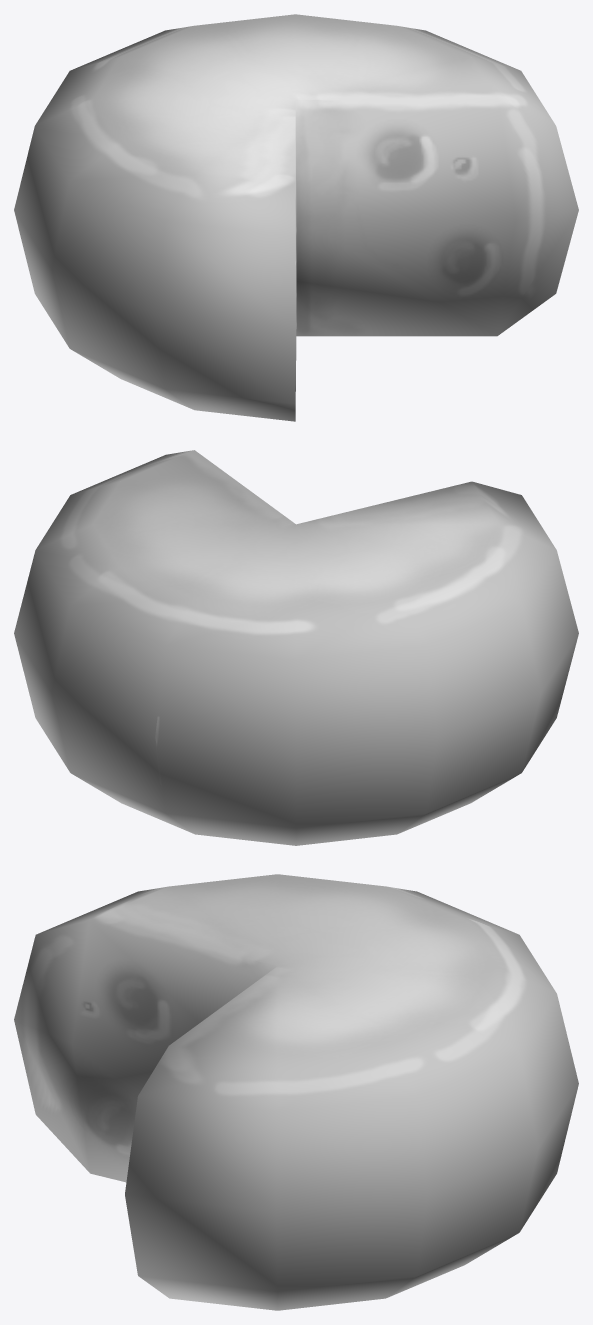
File: cheese.fbx
3 renders of one model, top to bottom at view 1: azimuth 30°, elevation 25°; view 2: azimuth 150°, elevation 25°; view 3: azimuth 270°, elevation 25°, orthographic. The views are drawn at different scales.
Visible parts, largest first — view 1: Cylinder; view 2: Cylinder; view 3: Cylinder.
Part boxes in pixels (box(x1,y1,x2,y2)): Cylinder: box(14, 14, 578, 421); Cylinder: box(14, 450, 578, 845); Cylinder: box(14, 874, 578, 1310).
Size of the model in its own units: 217 by 100 by 202.
